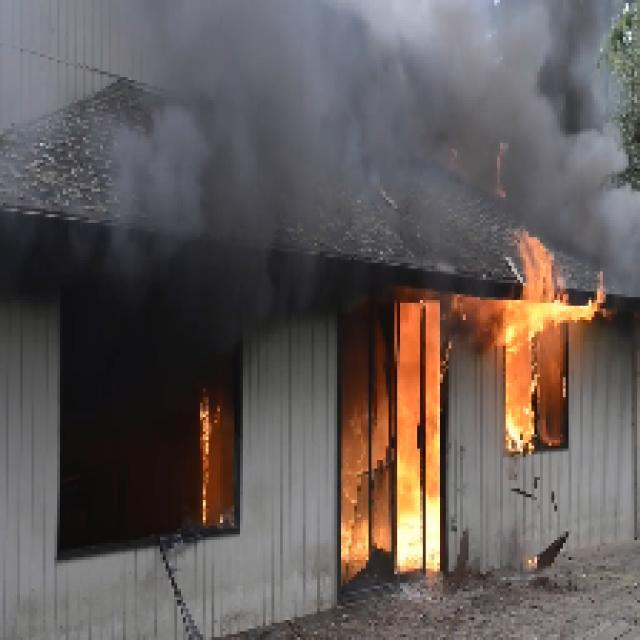Fire: (388, 302, 443, 562), (512, 278, 575, 448)
Smoke: (129, 14, 623, 242)
